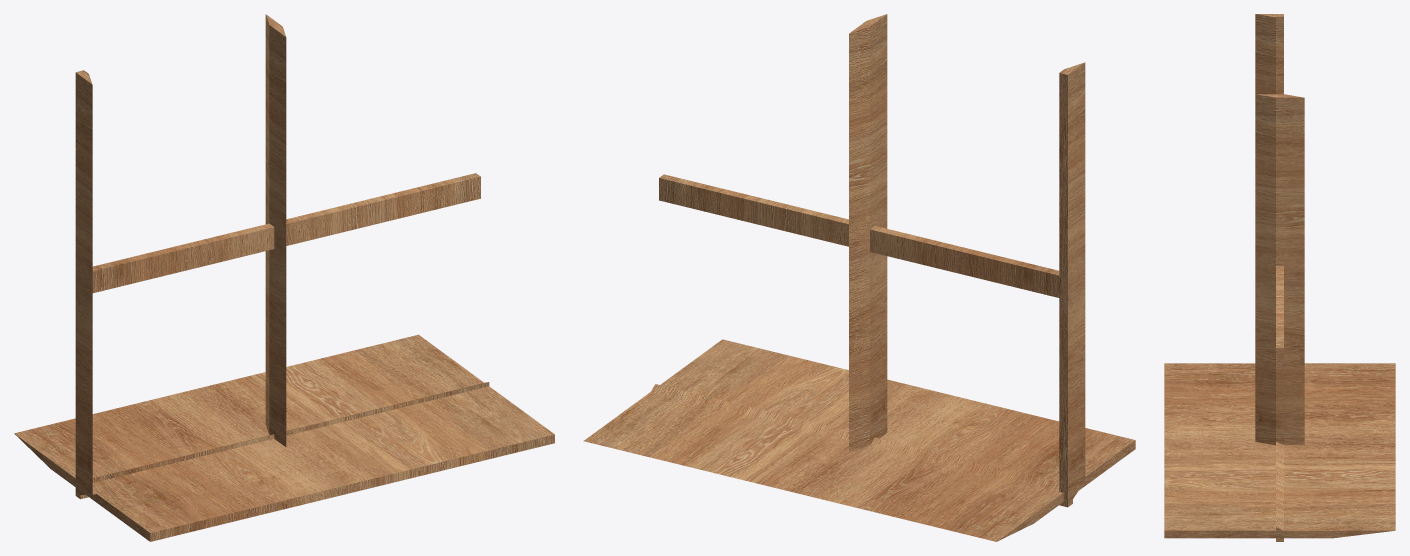
Rendered from 46586_deepcad-end2end.glb.
3 views of the same model, side by side, from view 1: azimuth 30°, elevation 25°; view 2: azimuth 150°, elevation 25°; view 3: azimuth 270°, elevation 25° (orthographic). The views are drawn at different scales.
Visible parts, largest first — view 1: test_cmd_46586_pred; view 2: test_cmd_46586_pred; view 3: test_cmd_46586_pred.
Boxes of the visible parts, bbox=[...] form: test_cmd_46586_pred: bbox=[14, 14, 554, 541]; test_cmd_46586_pred: bbox=[583, 14, 1135, 541]; test_cmd_46586_pred: bbox=[1164, 14, 1395, 541].
Bounding box in the file's own units: 1 × 0.9897 × 0.5773.
1 material, 1 textured.
